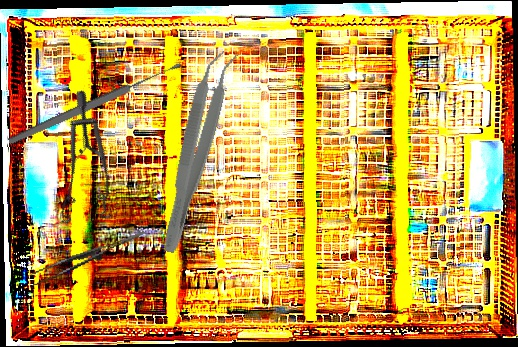Speculum: (8, 87, 147, 242)
Surgical Spoon: (6, 60, 184, 147)
Tissue Forceps: (155, 46, 241, 258), (25, 230, 151, 287)
